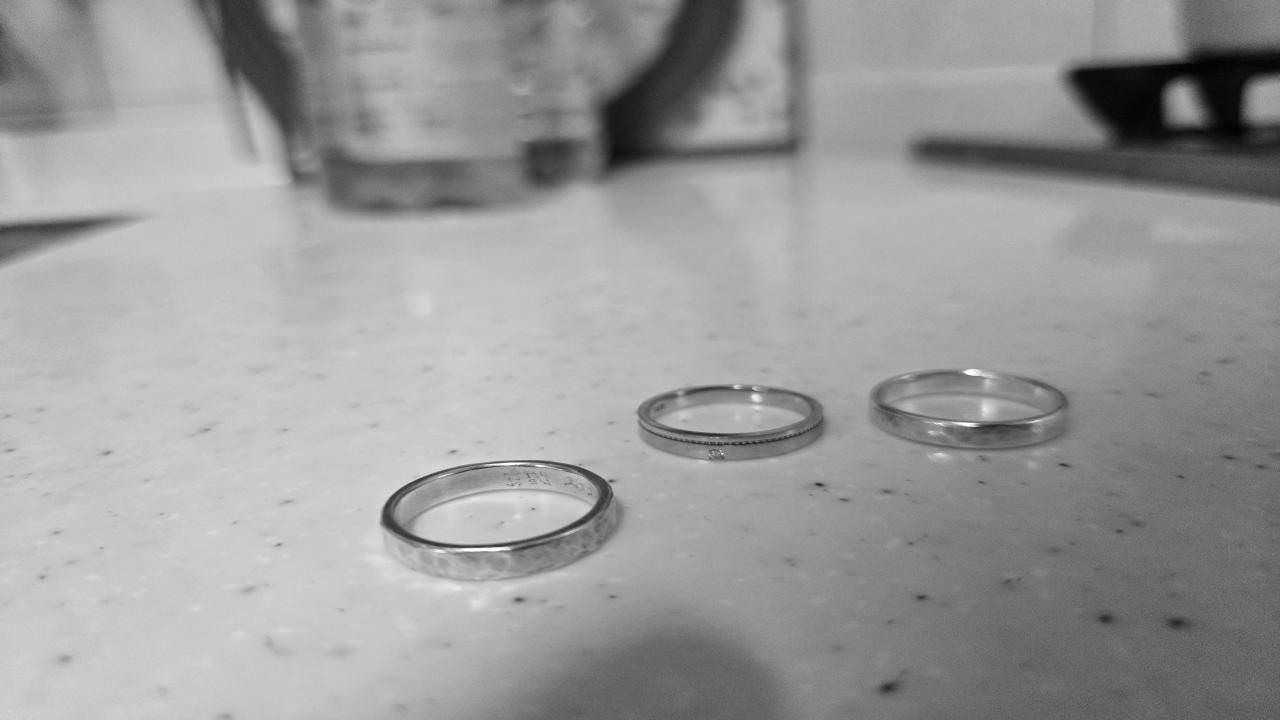ring: (377, 459, 620, 582), (866, 369, 1071, 451), (634, 383, 826, 461)
